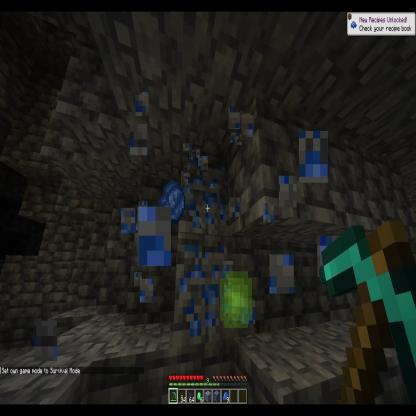lapis ore: (168, 232, 239, 344), (170, 160, 232, 240)
